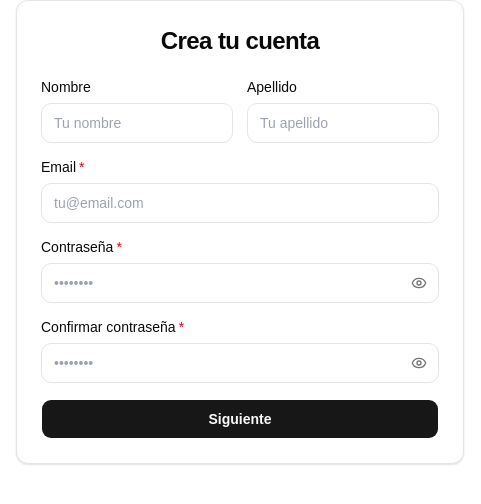
Test: the passwords must match
Type "ana@empresa.com" into the field labelled "Email*" at (240, 203), box [41,183,439,223]
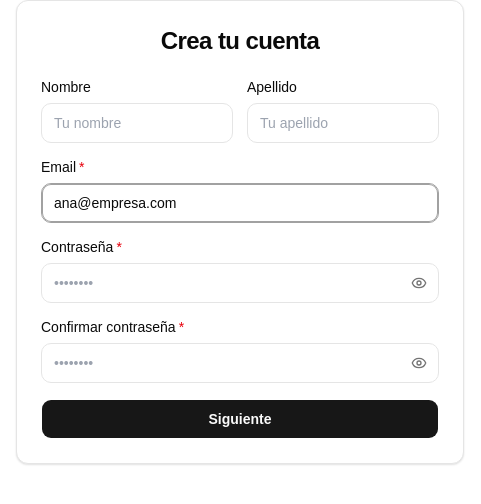
Type "Clave-123" into the password field labelled "Contraseña*" at (240, 283), box [41,263,439,303]
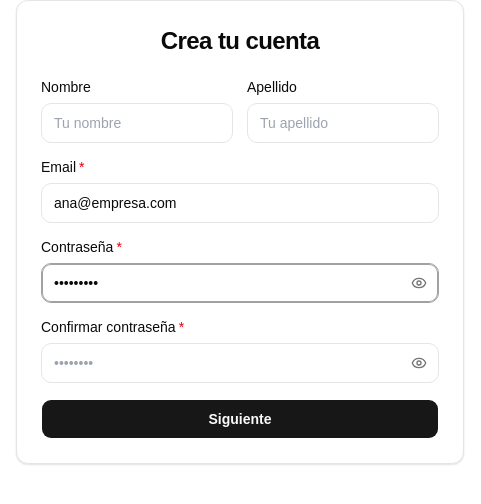
Type "Clave-124" into the password field labelled "Confirmar contraseña*" at (240, 363), box [41,343,439,383]
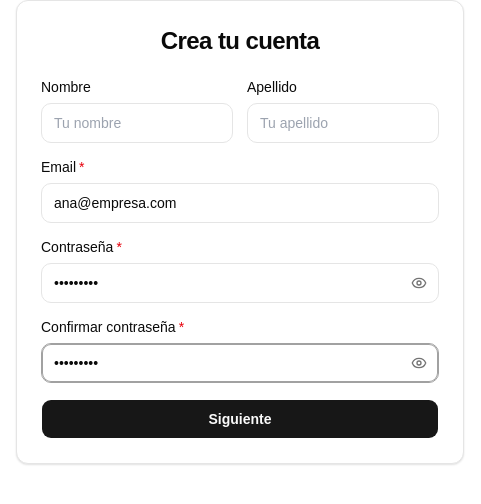
Click the button "Siguiente" at (240, 419), box [41,399,439,439]
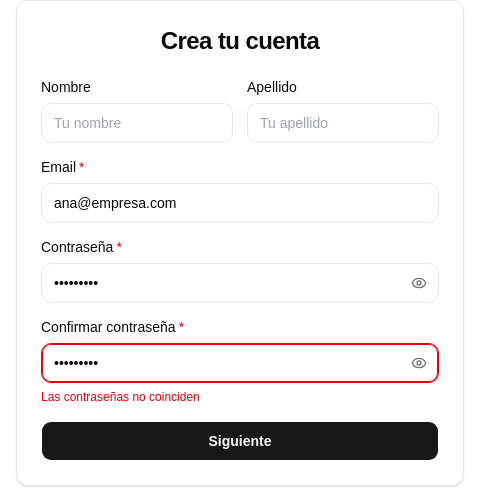
Expected: the text "Las contraseñas no coinciden" is shown, [41,390,200,404]
